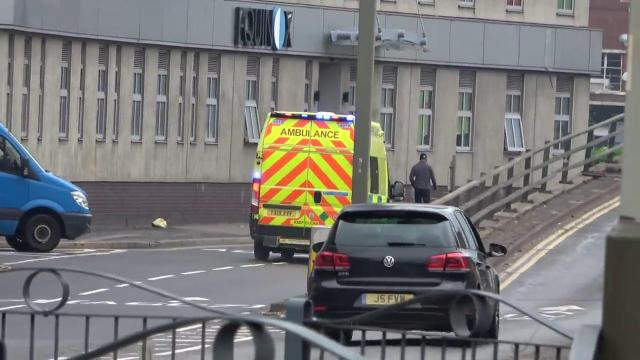police_car: (252, 106, 385, 254)
